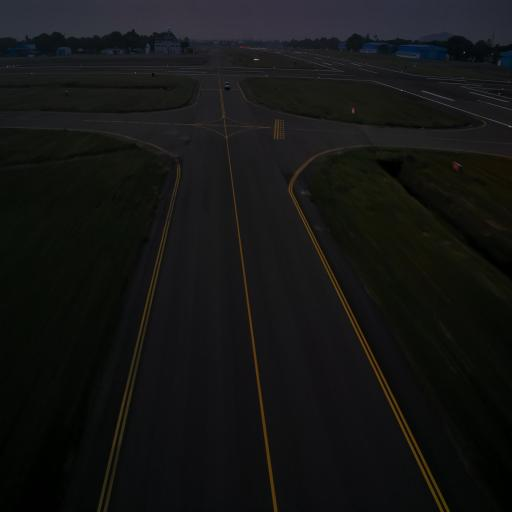on: (302, 186, 305, 192)
